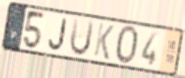4: (139, 30, 160, 68)
5: (21, 9, 49, 51)
J: (47, 17, 69, 52)
K: (92, 21, 115, 62)
O: (114, 24, 140, 66)
U: (68, 17, 96, 58)
